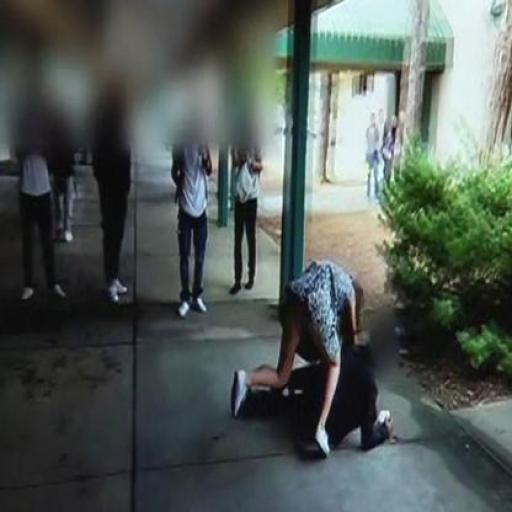Fighting: (234, 262, 400, 460)
